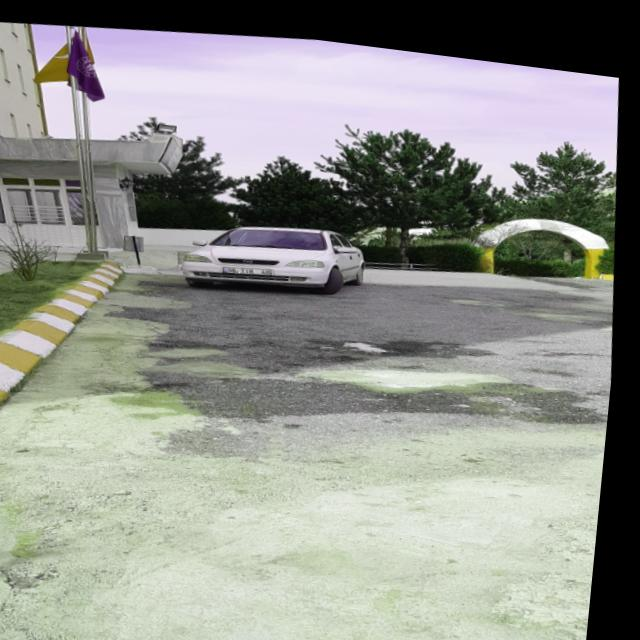plate: (226, 257, 276, 271)
